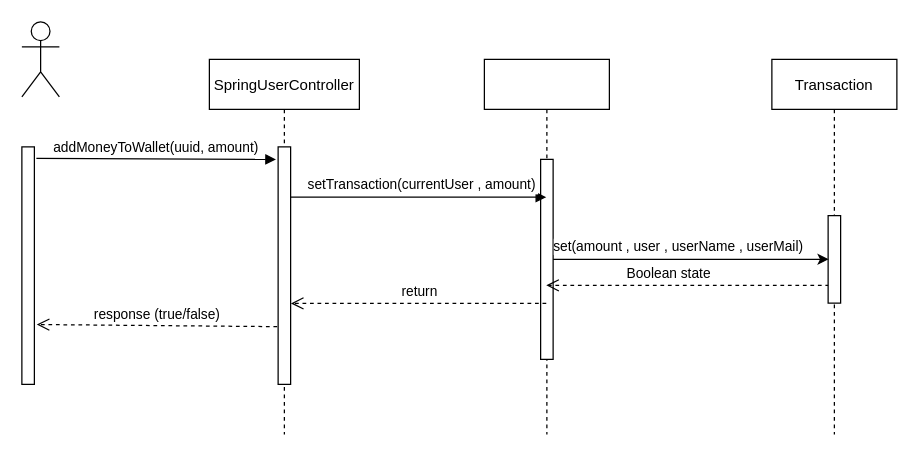
This 919x456 diagram has some shape labels left out. The box of each missing label's shape, as (x1, y1, x2, y2) in pixels:
Actor: (21, 21, 59, 97)
WalletController: (483, 58, 609, 434)
